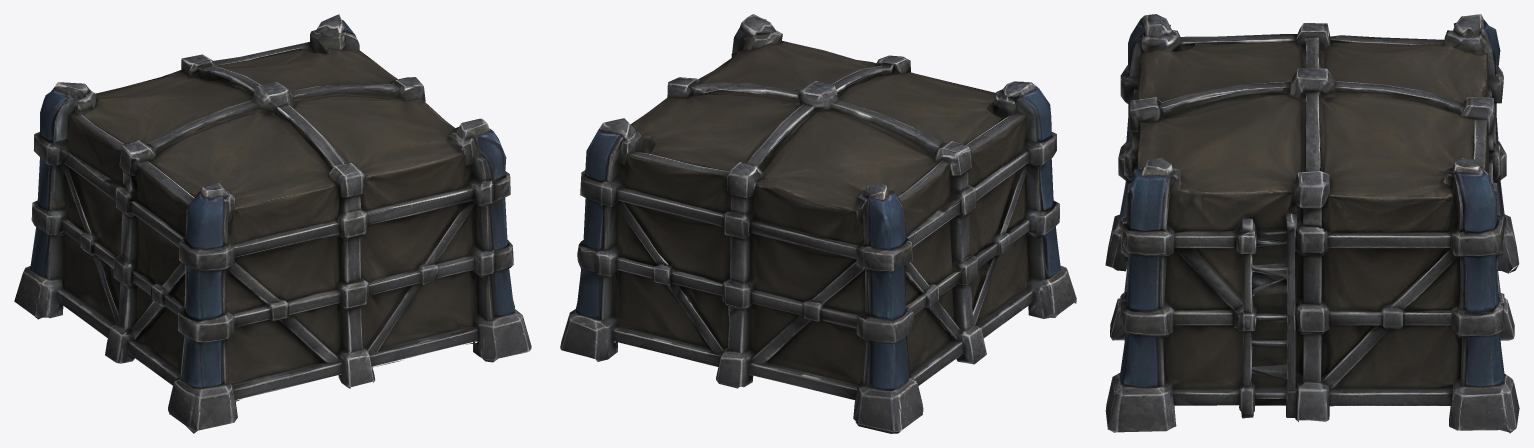
3 renders of one model, left to right at view 1: azimuth 30°, elevation 25°; view 2: azimuth 150°, elevation 25°; view 3: azimuth 270°, elevation 25°, orthographic. The views are drawn at different scales.
Visible parts, largest first — view 1: Construction enclosure; view 2: Construction enclosure; view 3: Construction enclosure.
Part boxes in pixels (bbox=[...]): Construction enclosure: bbox=[14, 14, 531, 433]; Construction enclosure: bbox=[560, 14, 1076, 433]; Construction enclosure: bbox=[1105, 14, 1519, 433].
Bounding box in the file's own units: 1 × 0.6679 × 0.9331.
1 material, 1 textured.
